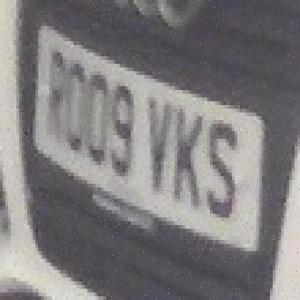Plate: (28, 18, 267, 253)
